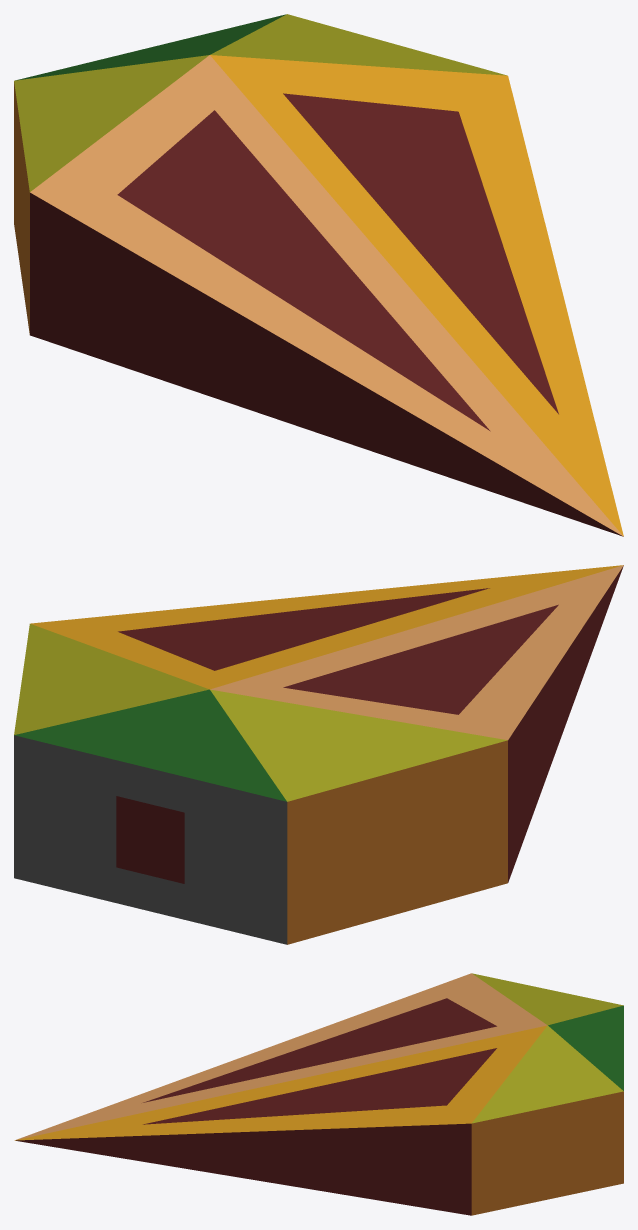
Rendered from arc_ferdelance.glb.
The picture shows the model from 3 angles, top to bottom: view 1: azimuth 30°, elevation 25°; view 2: azimuth 150°, elevation 25°; view 3: azimuth 270°, elevation 25°; orthographic projection. The views are drawn at different scales.
Parts seen in each view (by area): view 1: griff_arcelite_ferdelance; view 2: griff_arcelite_ferdelance, griff_arcelite_ferdelance.001; view 3: griff_arcelite_ferdelance.
Part boxes in pixels (bbox=[...]): griff_arcelite_ferdelance: bbox=[14, 14, 623, 536]; griff_arcelite_ferdelance: bbox=[14, 565, 623, 944]; griff_arcelite_ferdelance.001: bbox=[116, 796, 184, 883]; griff_arcelite_ferdelance: bbox=[14, 973, 623, 1215].
Bounding box in the file's own units: 0.5062 × 0.1808 × 0.8678.
Materials: 1 (1 with a texture image).
